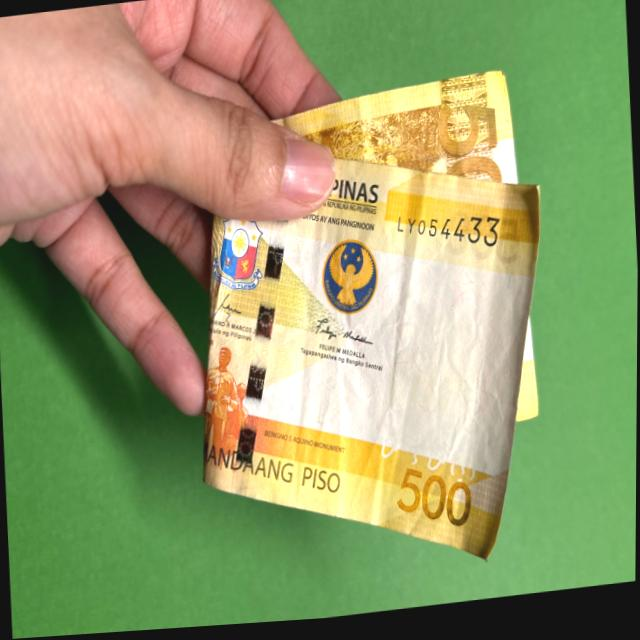see_through_mark: (373, 437, 485, 492)
serial_number: (227, 223, 298, 491), (393, 212, 503, 256)
